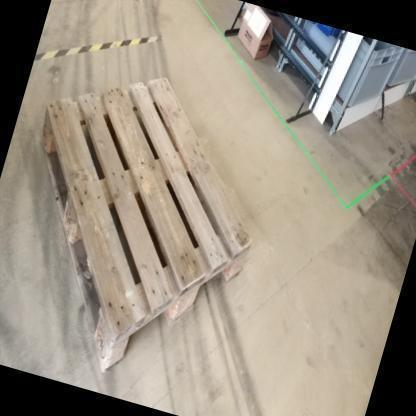pallet: (33, 71, 261, 378)
